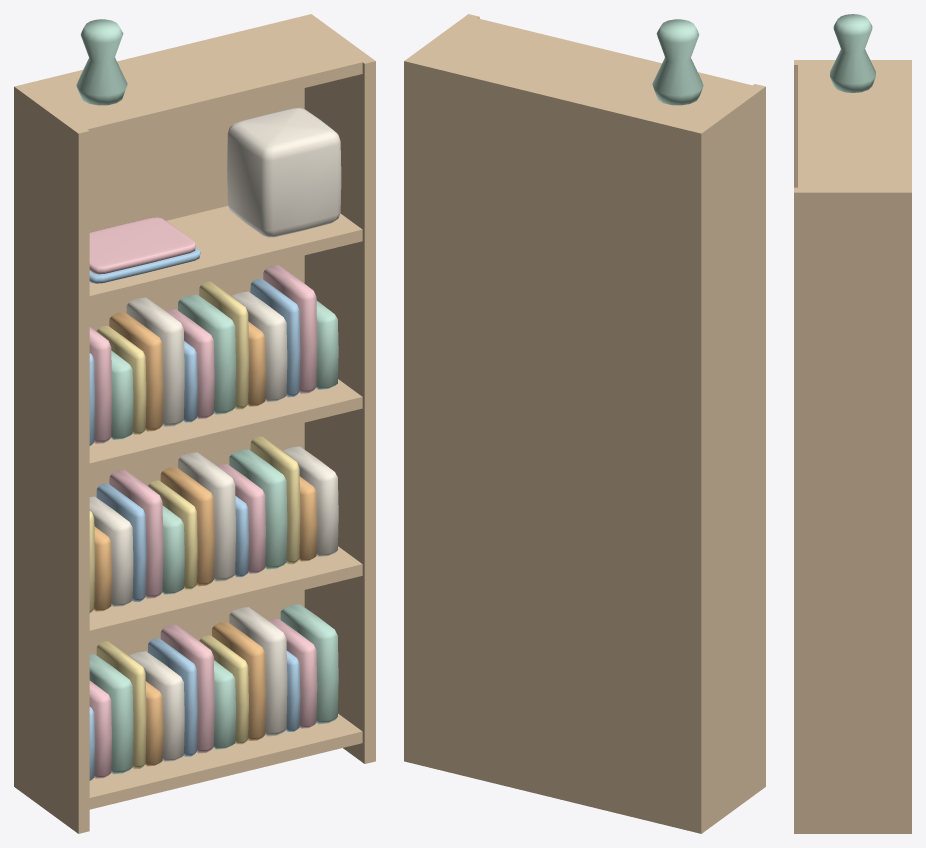
The model's file is bookshelf.glb.
The picture shows the model from 3 angles, left to right: view 1: azimuth 30°, elevation 25°; view 2: azimuth 150°, elevation 25°; view 3: azimuth 270°, elevation 25°; orthographic projection. The views are drawn at different scales.
Parts seen in each view (by area): view 1: bookshelf; view 2: bookshelf; view 3: bookshelf.
Boxes of the visible parts, x1=… form: bookshelf: x1=14, y1=14, x2=375, y2=833; bookshelf: x1=404, y1=14, x2=765, y2=833; bookshelf: x1=794, y1=14, x2=911, y2=833.
Bounding box in the file's own units: 0.7999 × 1.98 × 0.2999.
